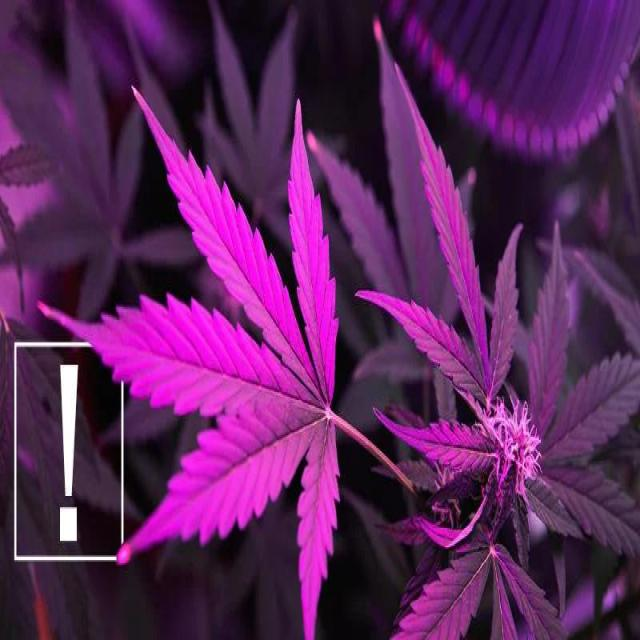cannabis: (38, 88, 417, 638), (353, 63, 524, 474), (306, 19, 459, 321), (525, 212, 639, 566), (194, 0, 299, 245), (387, 529, 574, 638)
